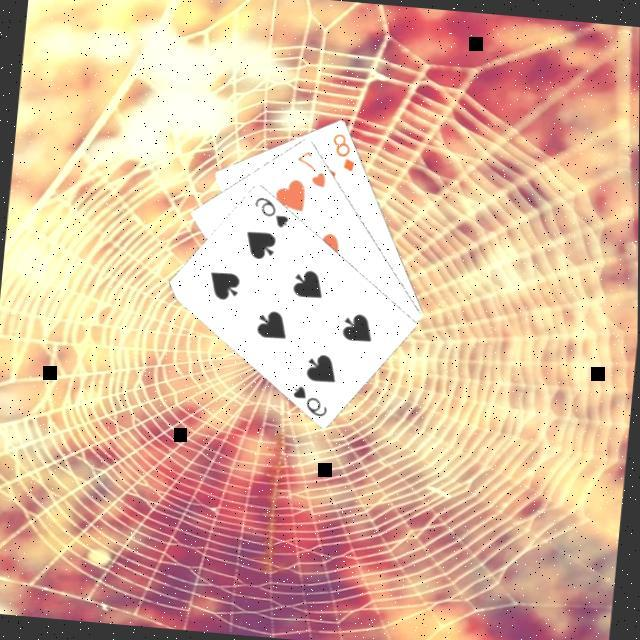6S: (247, 190, 292, 230), (286, 380, 330, 420)
7H: (288, 144, 329, 190)
8D: (324, 128, 358, 174)
